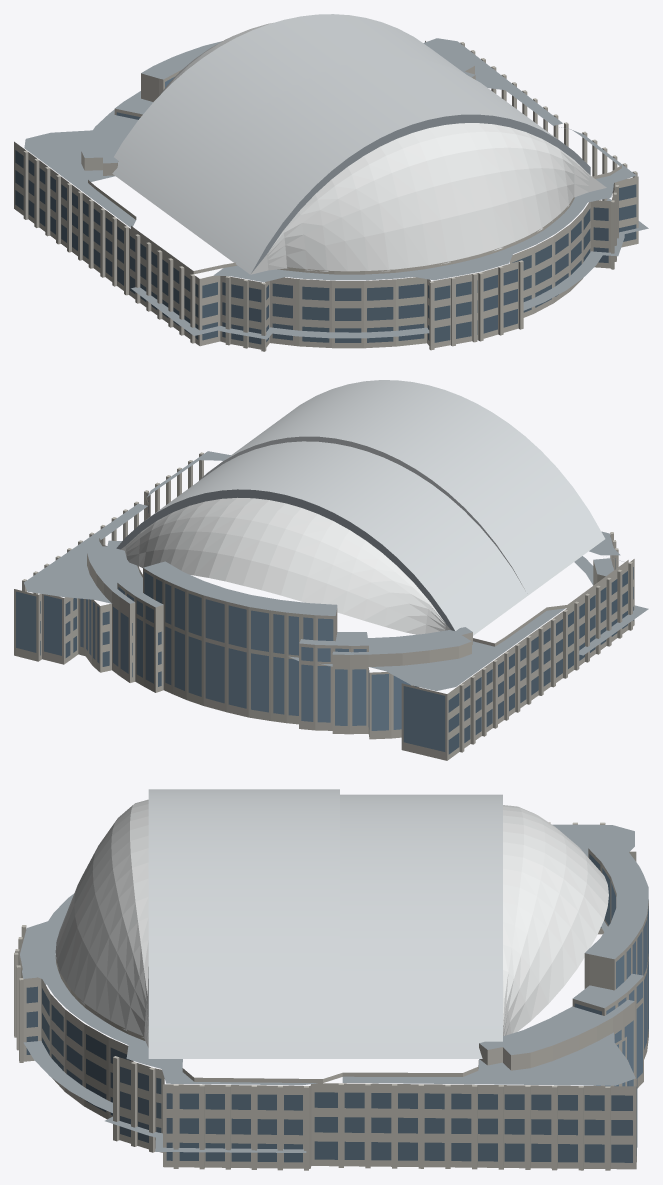
File: tor-rogers-centre.glb
3 views of the same model, one above another, from view 1: azimuth 30°, elevation 25°; view 2: azimuth 150°, elevation 25°; view 3: azimuth 270°, elevation 25° (orthographic). The views are drawn at different scales.
Visible parts, largest first — view 1: Rogers Centre; view 2: Rogers Centre; view 3: Rogers Centre.
Part boxes in pixels (x1,y1,x2,y2): Rogers Centre: (14, 14, 648, 351); Rogers Centre: (14, 380, 648, 760); Rogers Centre: (14, 789, 648, 1170).
Bounding box in the file's own units: 225 × 86 × 222.
